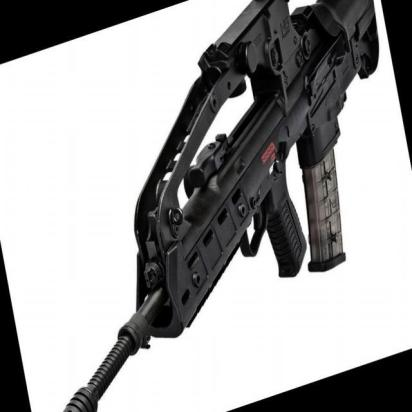Gun: (60, 0, 382, 412)
